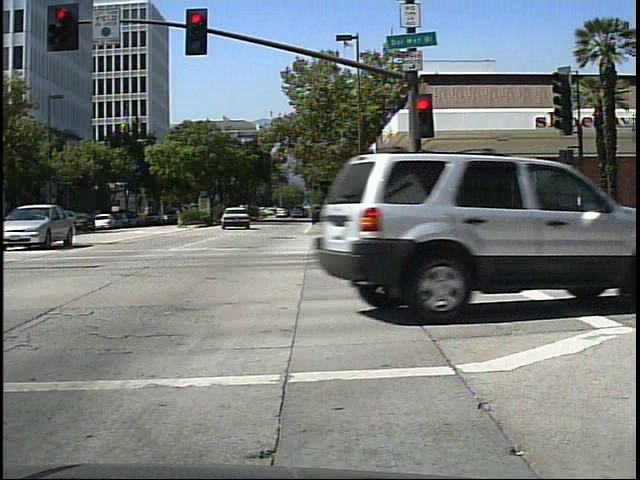person: (270, 205, 283, 223)
